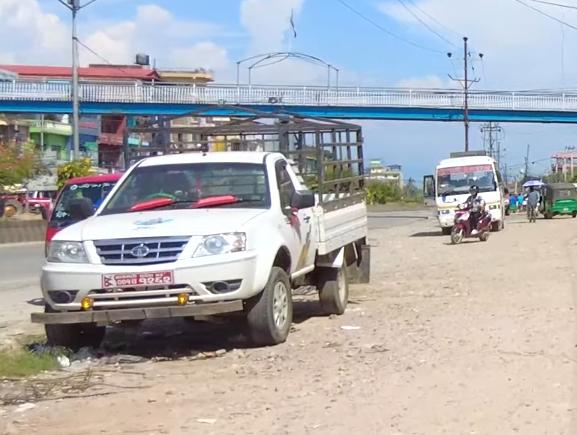auto_rickshaw: (524, 171, 577, 224)
bus: (418, 152, 516, 235)
scooter: (451, 201, 497, 249)
transport_vehicle: (28, 98, 378, 362)
